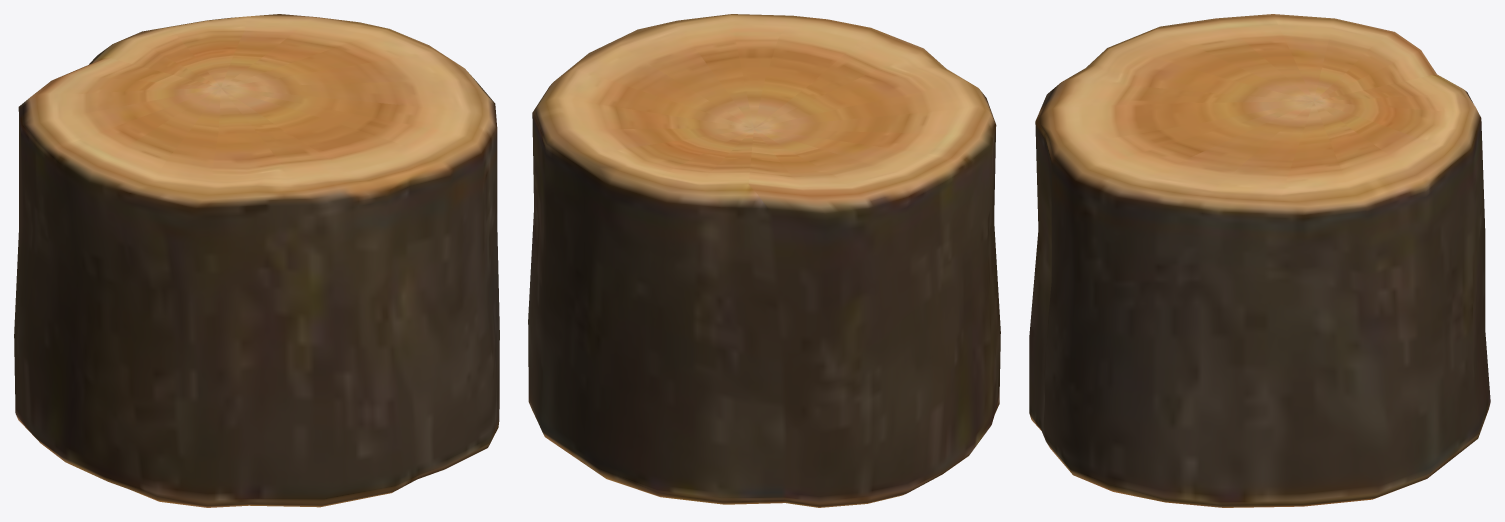
Rendered from log-stool.glb.
3 renders of one model, left to right at view 1: azimuth 30°, elevation 25°; view 2: azimuth 150°, elevation 25°; view 3: azimuth 270°, elevation 25°, orthographic.
Size of the model in its own units: 5.73 by 4.2 by 5.71.
Materials: 1 (1 with a texture image).
